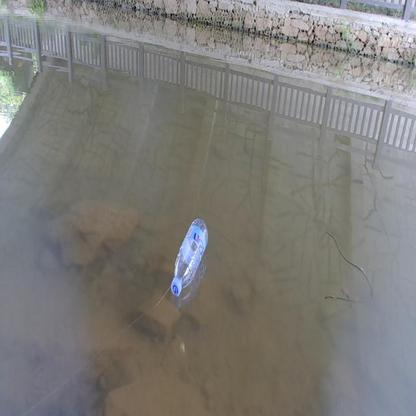plastic bottle: (171, 217, 208, 296)
